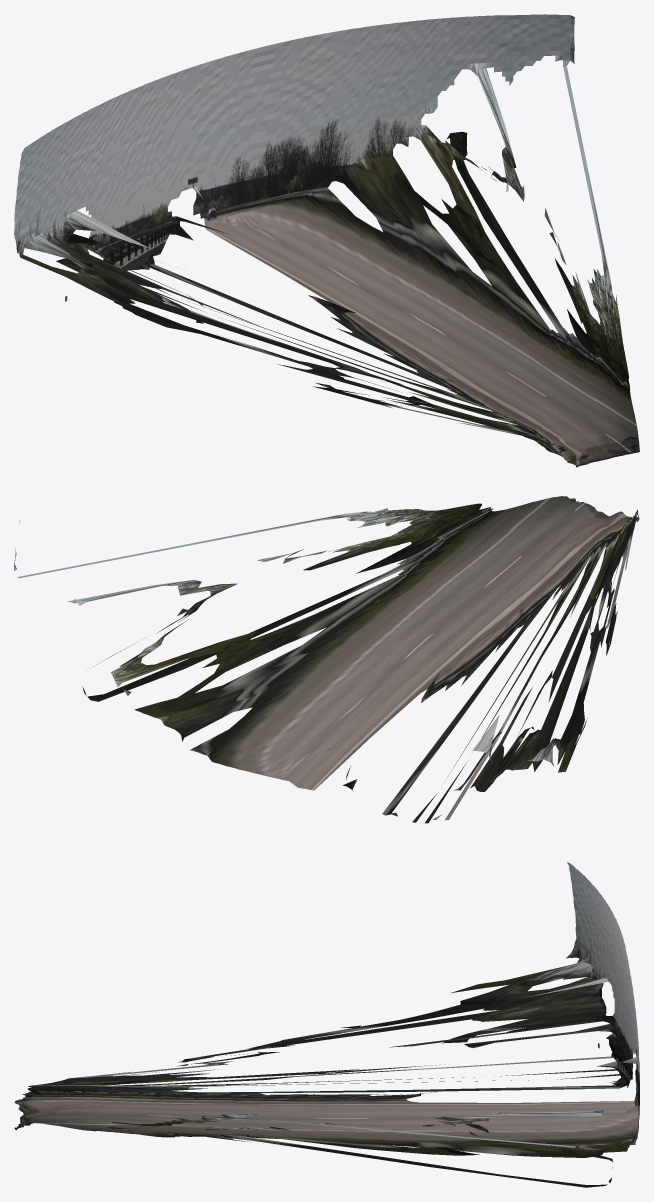
The picture shows the model from 3 angles, top to bottom: view 1: azimuth 30°, elevation 25°; view 2: azimuth 150°, elevation 25°; view 3: azimuth 270°, elevation 25°; orthographic projection. The views are drawn at different scales.
Visible parts, largest first — view 1: defaultobject; view 2: defaultobject; view 3: defaultobject.
Boxes of the visible parts, x1,y1,x2,y2 form: defaultobject: (14, 14, 639, 467); defaultobject: (14, 496, 639, 823); defaultobject: (14, 862, 639, 1187).
Size of the model in its own units: 40.91 by 13.38 by 44.64.
Materials: 1 (1 with a texture image).
